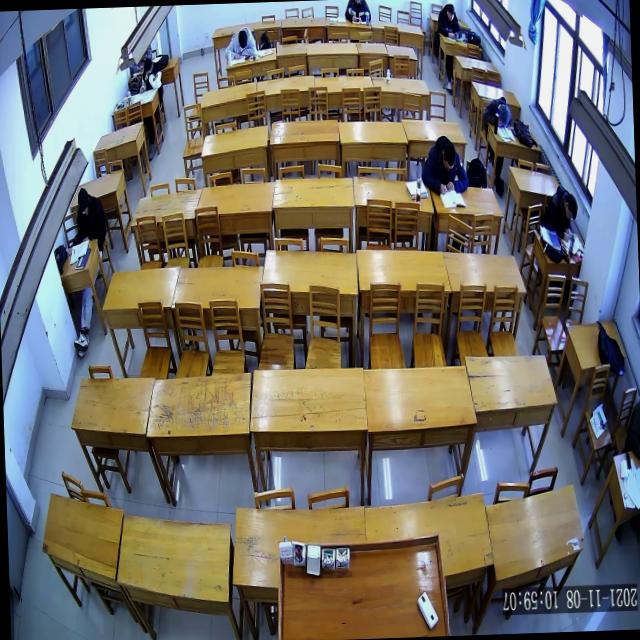bow: (222, 24, 258, 62), (482, 95, 512, 128)
down: (441, 143, 456, 173), (563, 193, 578, 223), (76, 187, 90, 216), (236, 28, 249, 51), (445, 2, 456, 24), (142, 57, 153, 76)
sit: (418, 132, 469, 196), (540, 184, 580, 244), (74, 186, 107, 245), (436, 1, 462, 42), (137, 56, 163, 96)
